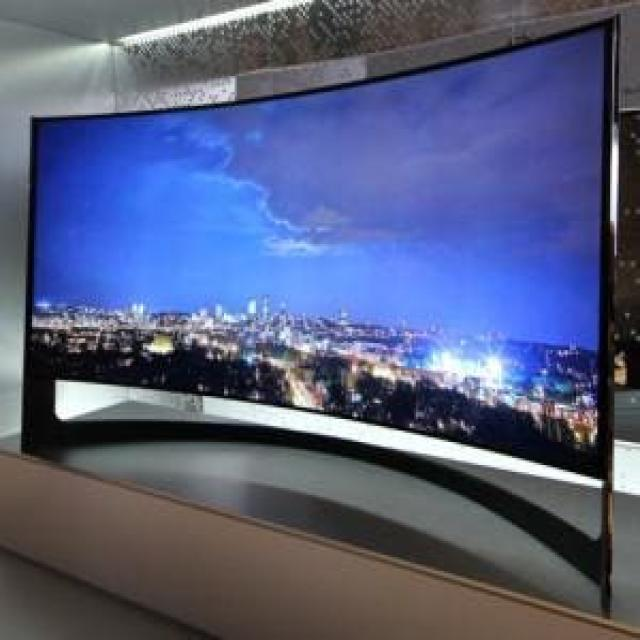electronics: (26, 25, 606, 474), (614, 108, 638, 387), (298, 412, 300, 417)
